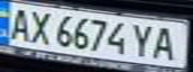4: (106, 19, 130, 56)
6: (51, 12, 75, 48), (69, 16, 90, 51)
7: (87, 17, 109, 53)
A: (148, 24, 184, 62), (3, 4, 33, 42)
X: (24, 8, 54, 45)
Y: (127, 20, 160, 60)
